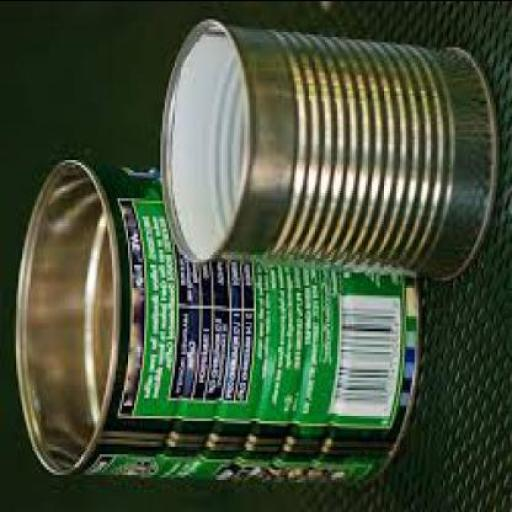metal: (12, 151, 421, 479), (158, 18, 498, 279)
